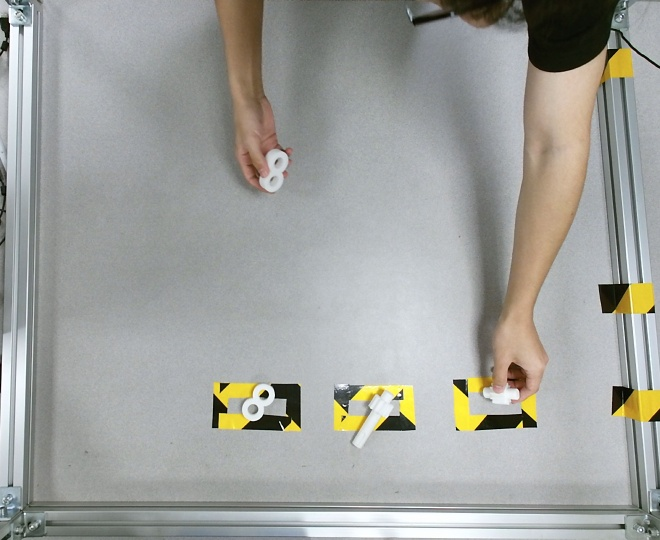stage_1: (259, 148, 288, 192)
